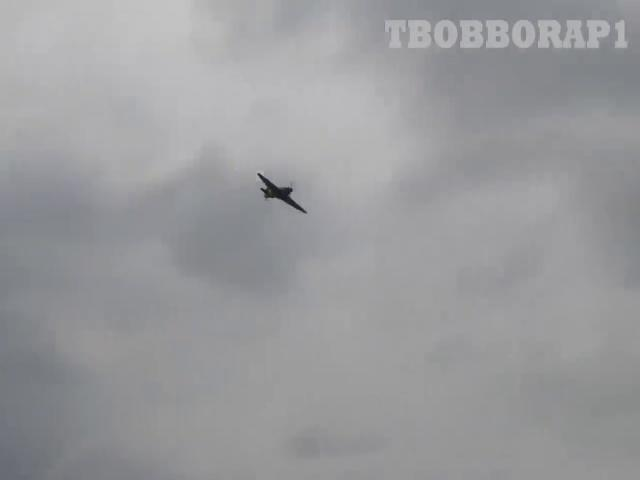Airplane: (256, 172, 308, 215)
